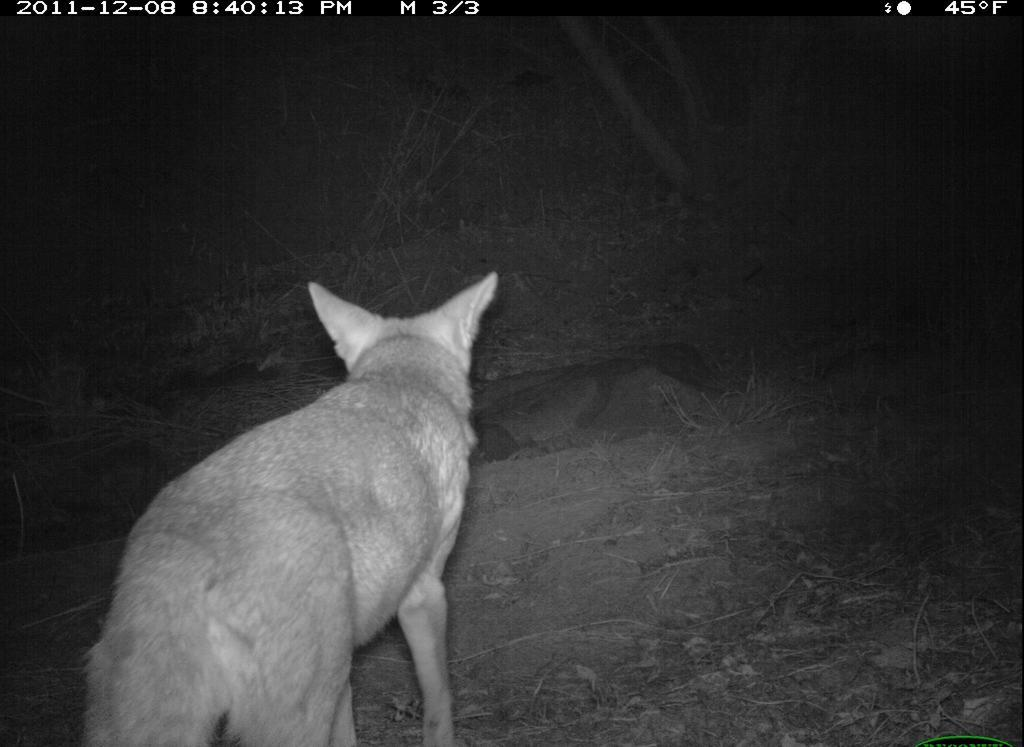coyote: (71, 269, 507, 745)
